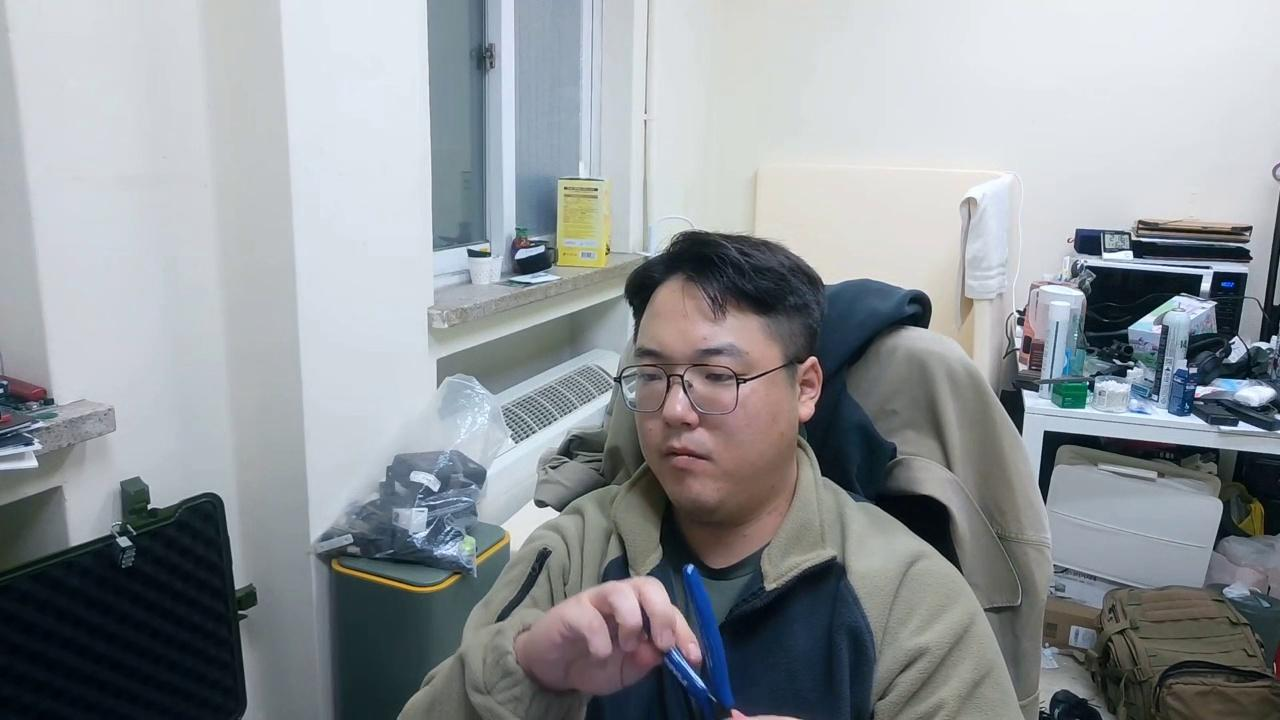blue_pliers: (679, 562, 737, 719)
